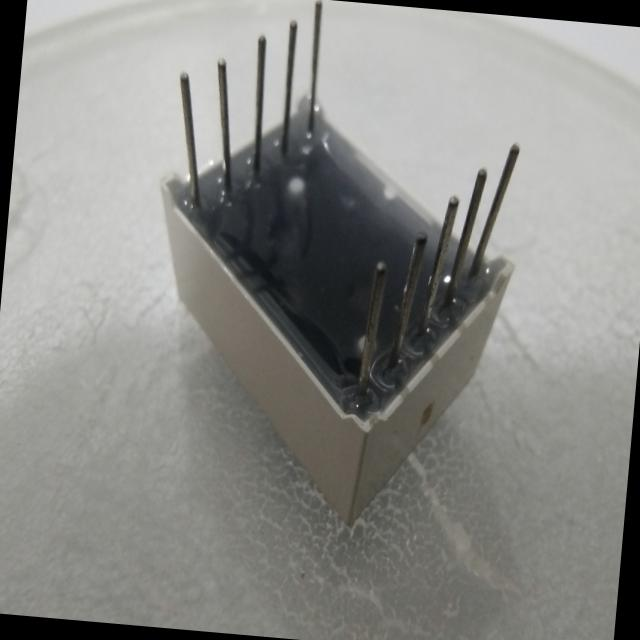7_segments: (112, 0, 547, 556)
